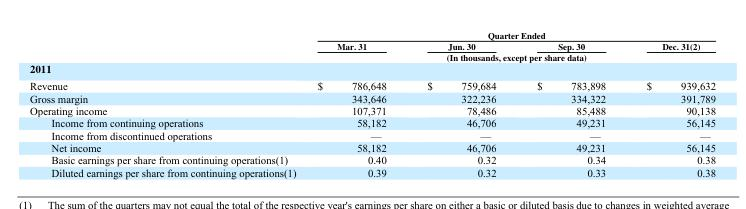table: (29, 28, 715, 177)
table column: (29, 28, 306, 177), (515, 28, 625, 177), (406, 28, 515, 177), (306, 28, 406, 177), (625, 28, 715, 177)
table column header: (29, 28, 715, 61)
table projected row header: (29, 61, 715, 77)
table row: (29, 61, 715, 77), (29, 77, 715, 91), (29, 91, 715, 104), (29, 128, 715, 141), (29, 28, 715, 40), (29, 104, 715, 116), (29, 116, 715, 128), (29, 141, 715, 153), (29, 153, 715, 165), (29, 165, 715, 177), (29, 40, 715, 51), (29, 51, 715, 61)
table spanning cell: (306, 28, 715, 40), (306, 51, 715, 61)
